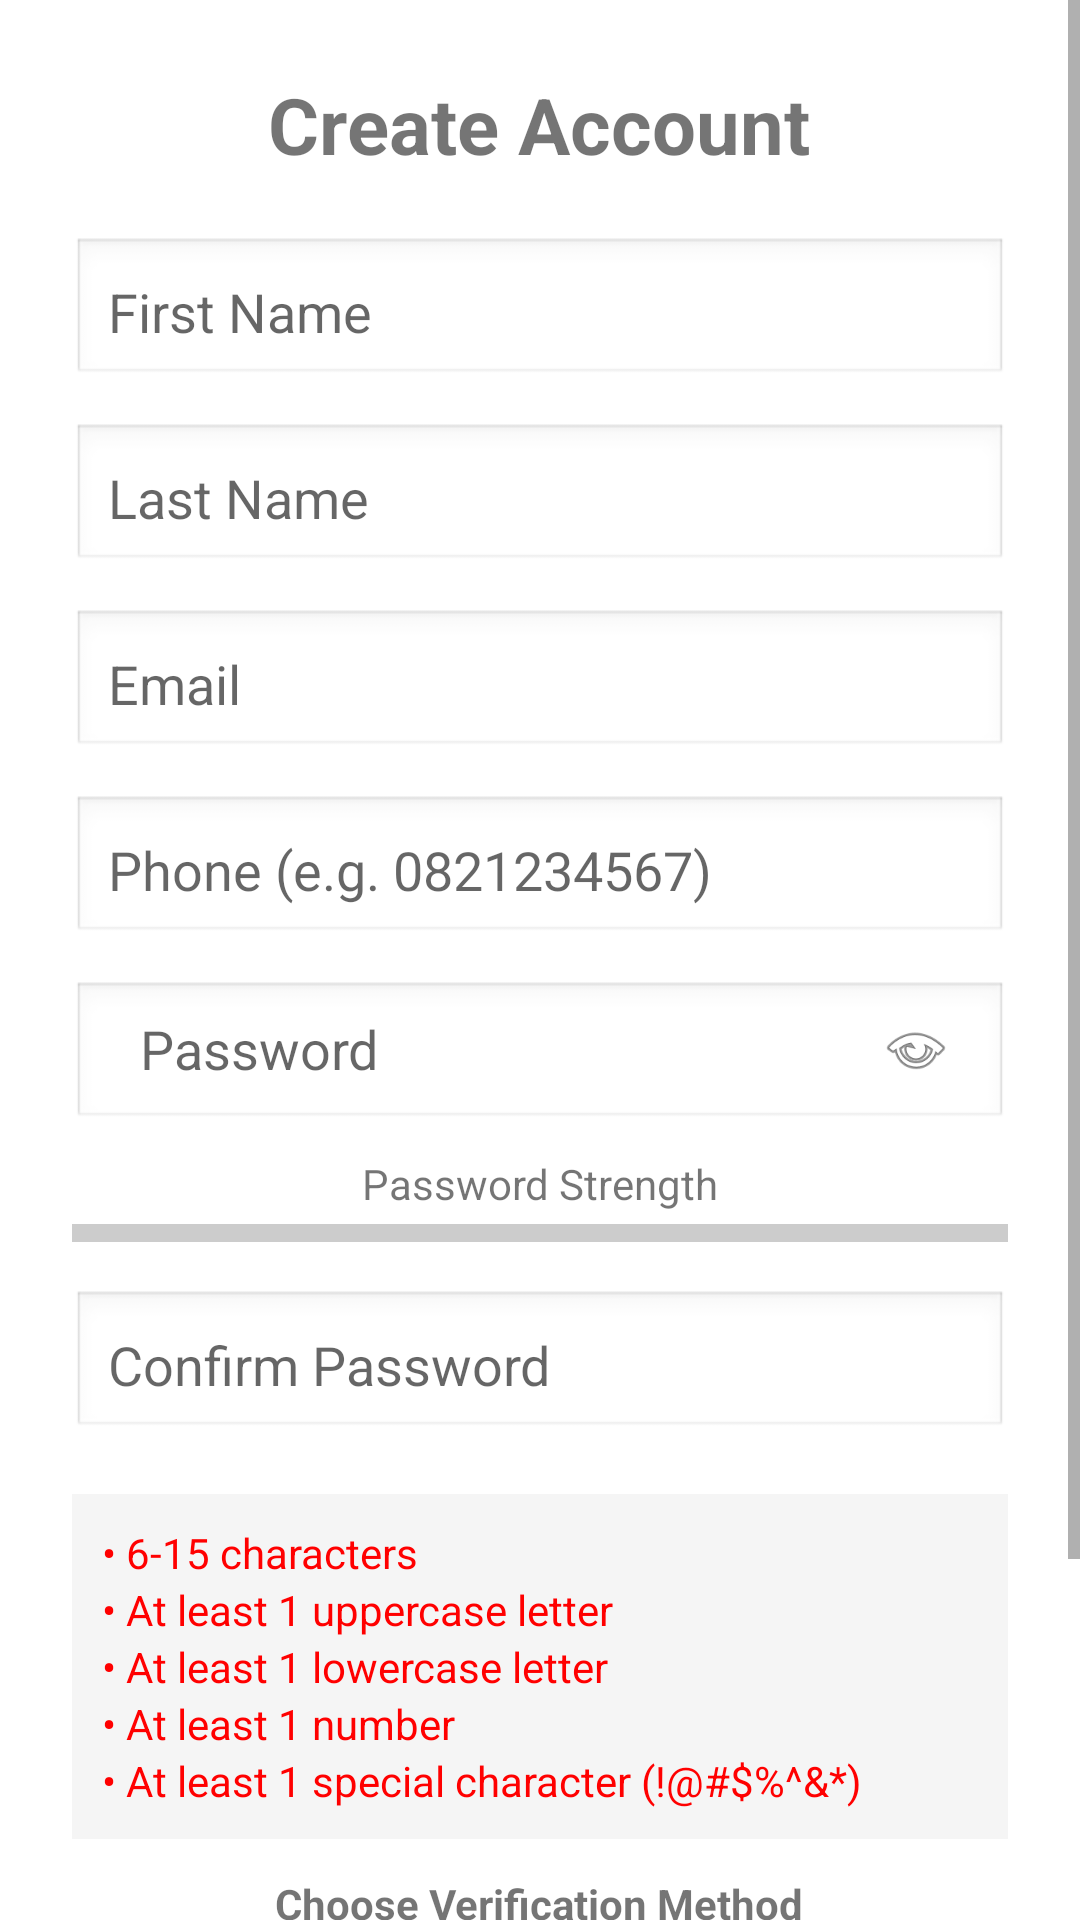

Named icons in this screenshot (1080px x 1920px) and their bounding boxes, (x1, y1, x2, y2):
view: (887, 1032, 945, 1069)
